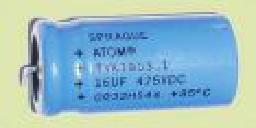Electrolytic-capacitor: (17, 12, 245, 118)
